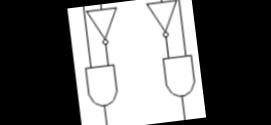and: (155, 48, 198, 104), (78, 59, 122, 110)
not: (80, 2, 122, 47), (141, 0, 181, 40)
